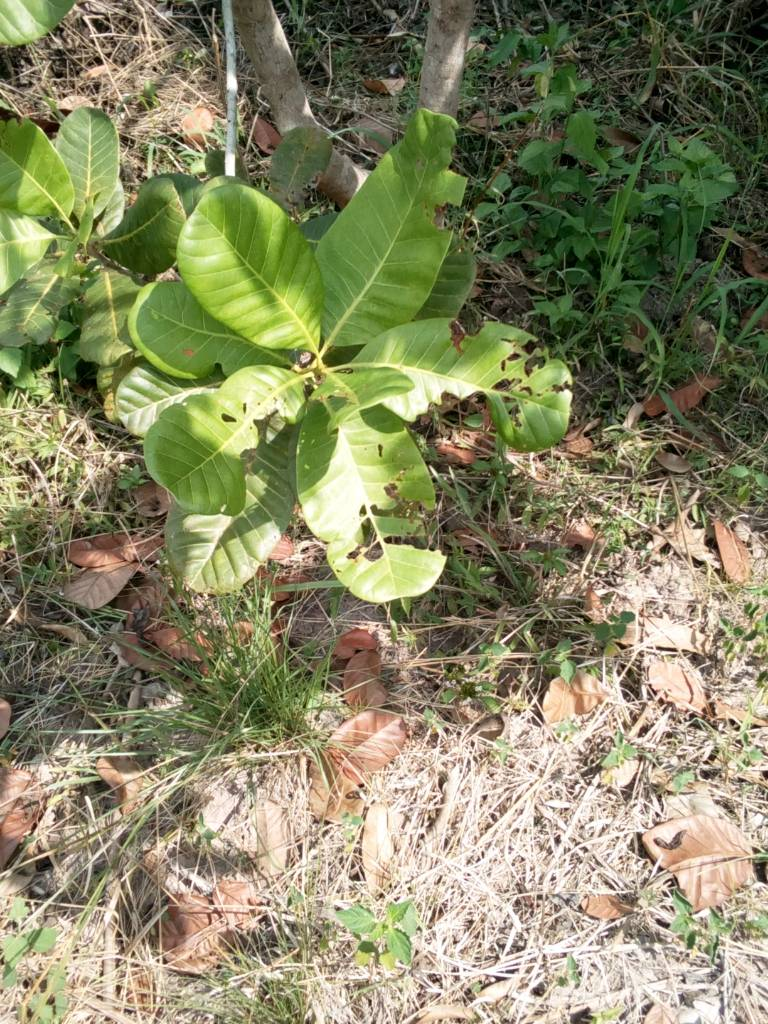Anoplonemis curvipes: (345, 313, 593, 467), (287, 400, 465, 608)
